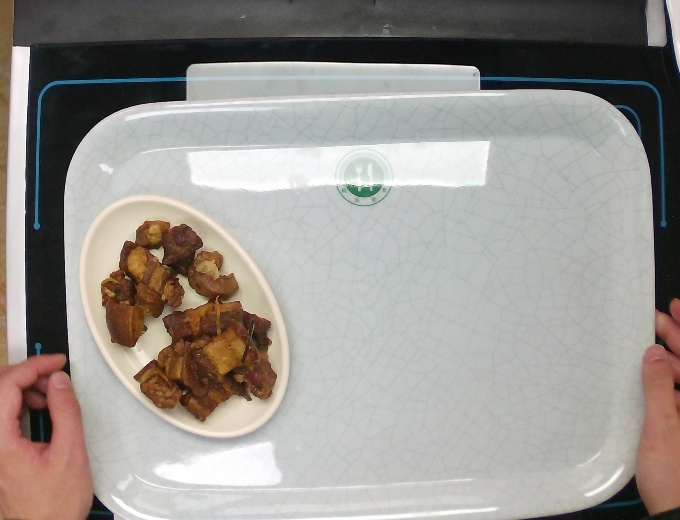JYsf-Tuo_Yuan_Wan: (69, 188, 297, 448)
